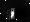person: (5, 8, 10, 20), (12, 9, 16, 20)
